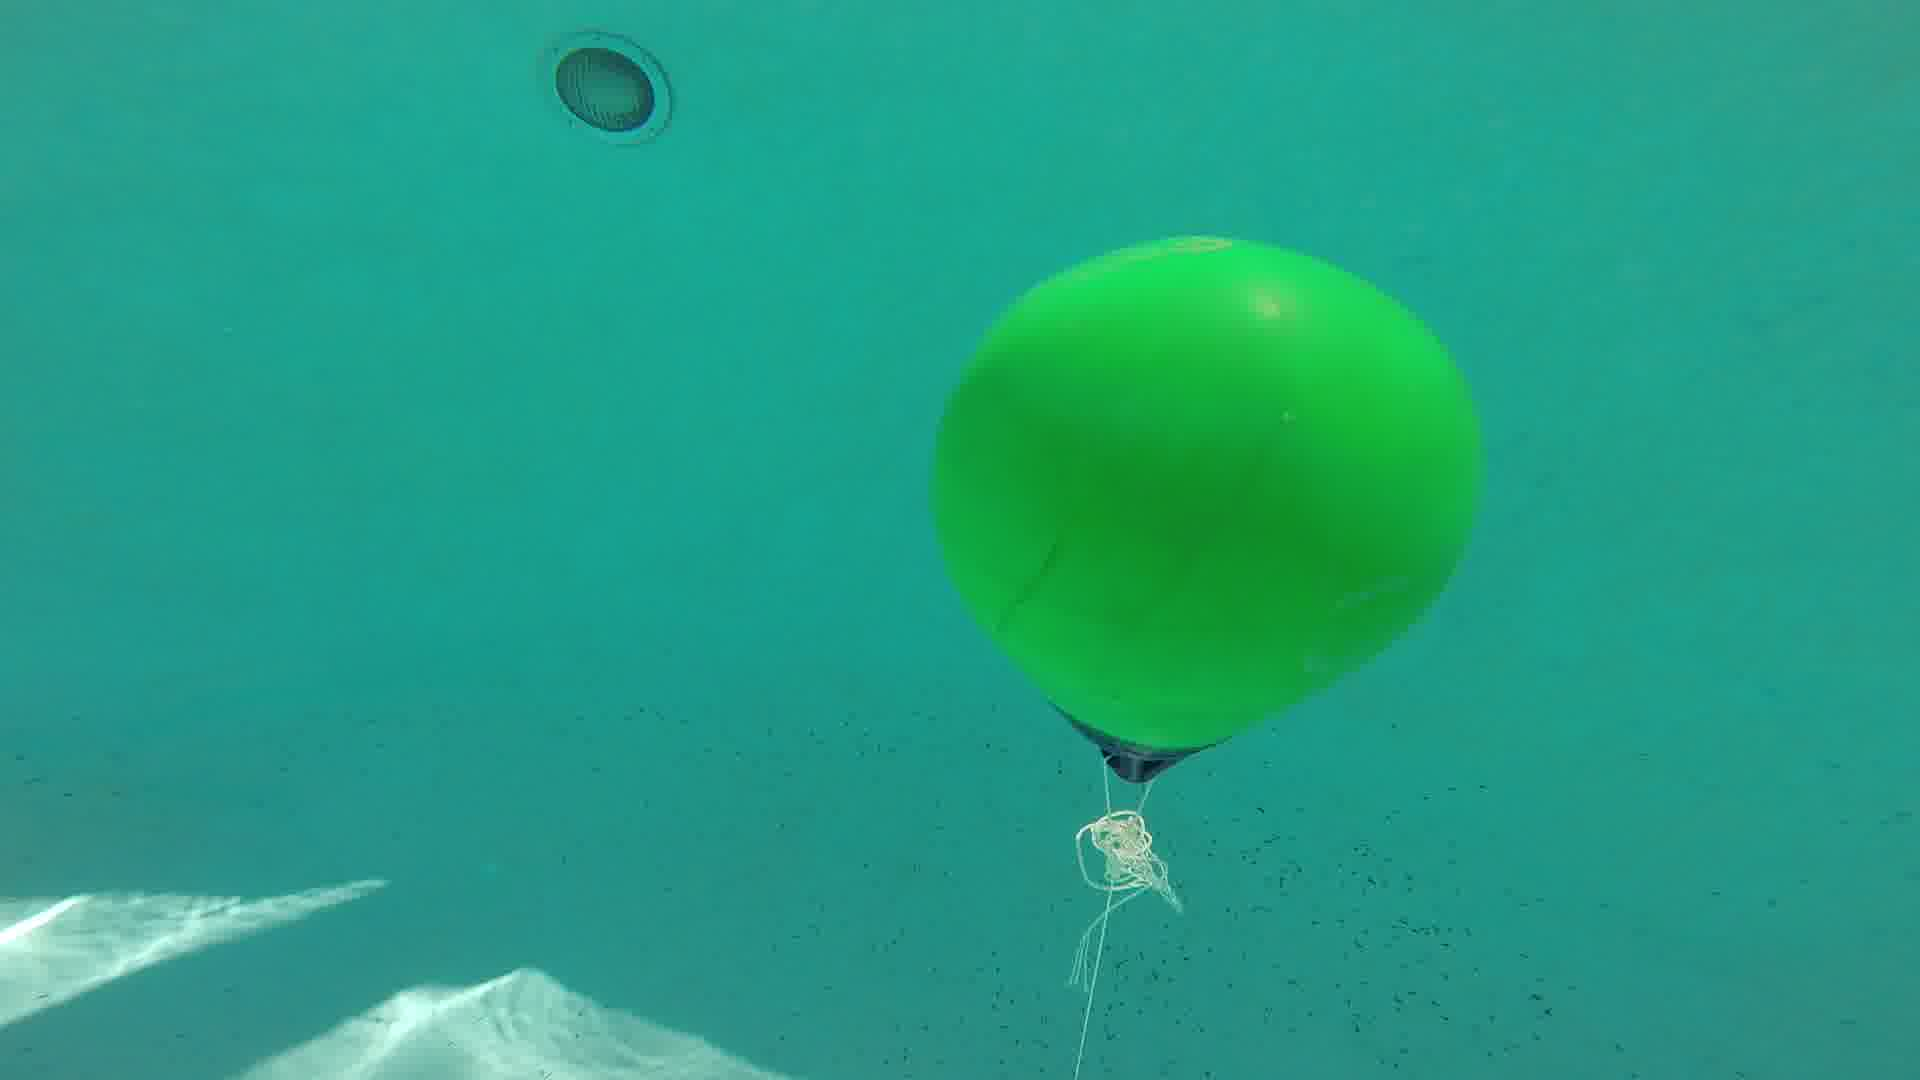yellow_buoy: (920, 223, 1489, 785)
